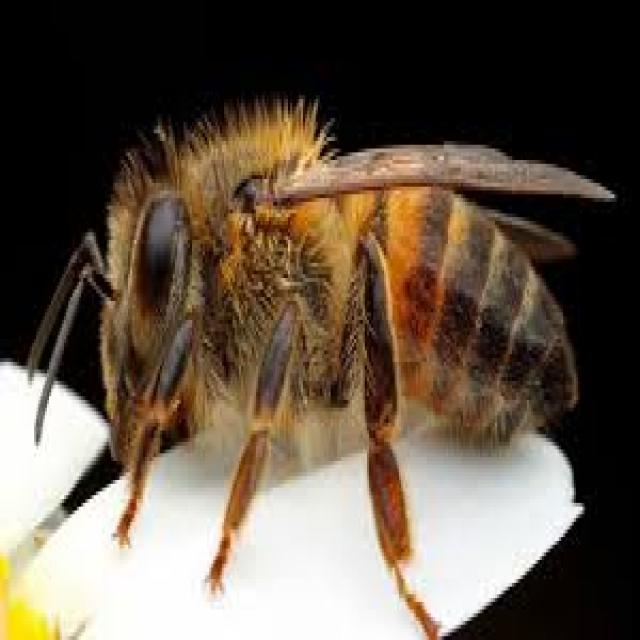Bees: (26, 91, 614, 640)
